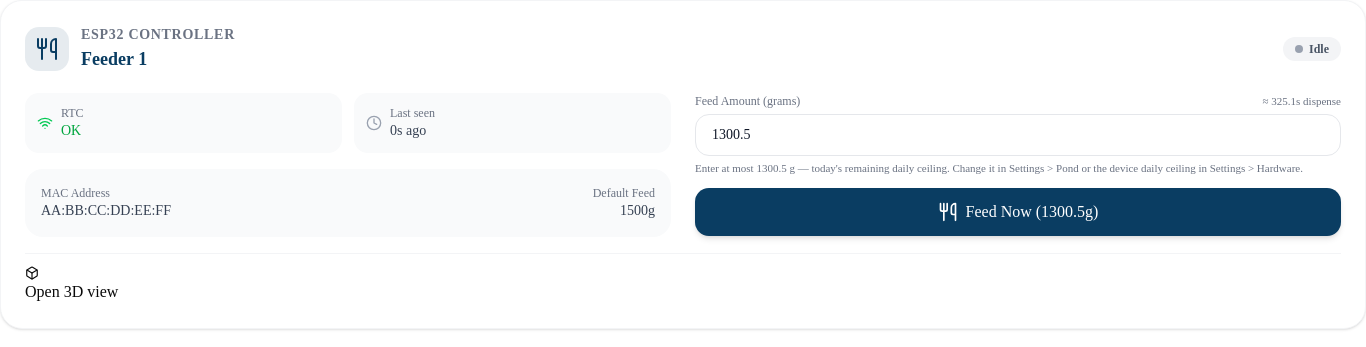
Test: EnergyControllerCard Feed Now input › blocks a manually typed amount above the remaining daily grams
Replace the text in the number field labelled "Feed Amount (grams)" with "1400" at (1018, 134), box [695, 114, 1341, 156]
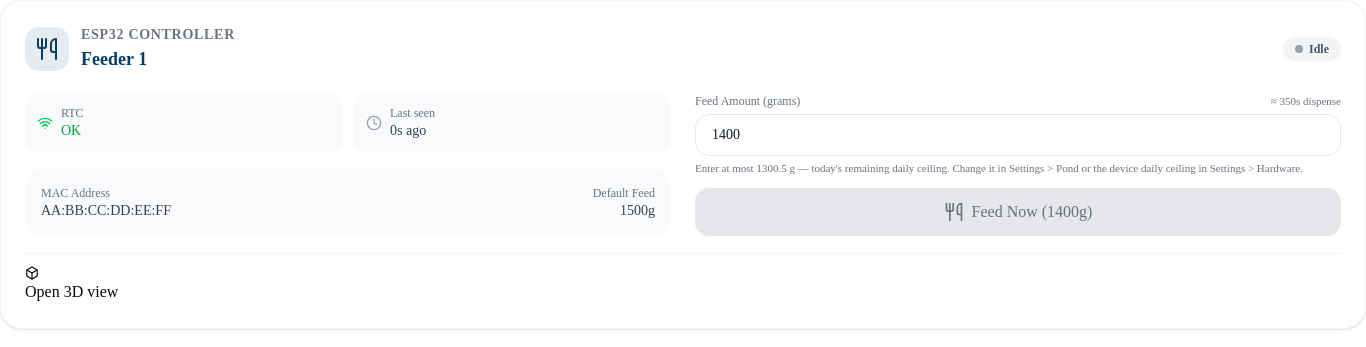
Check: the button "Feed Now (1400g)" is disabled, box [695, 188, 1341, 236]
